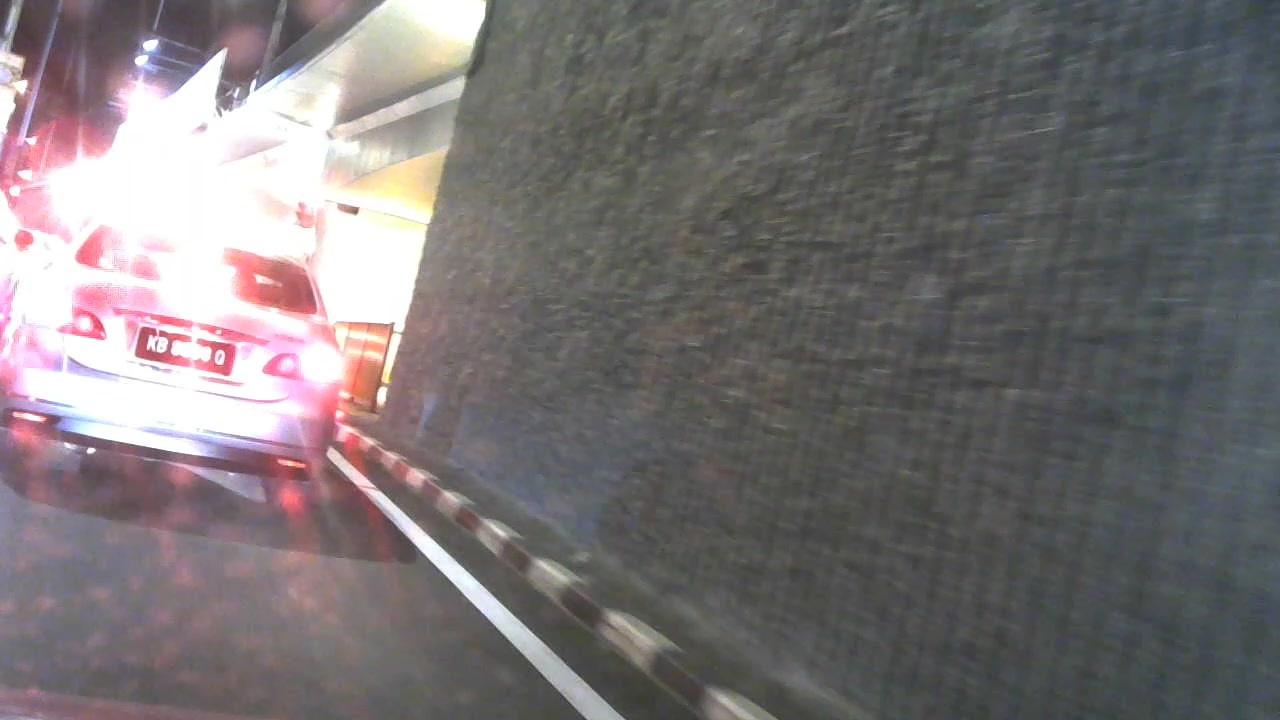Car: (17, 209, 343, 492)
